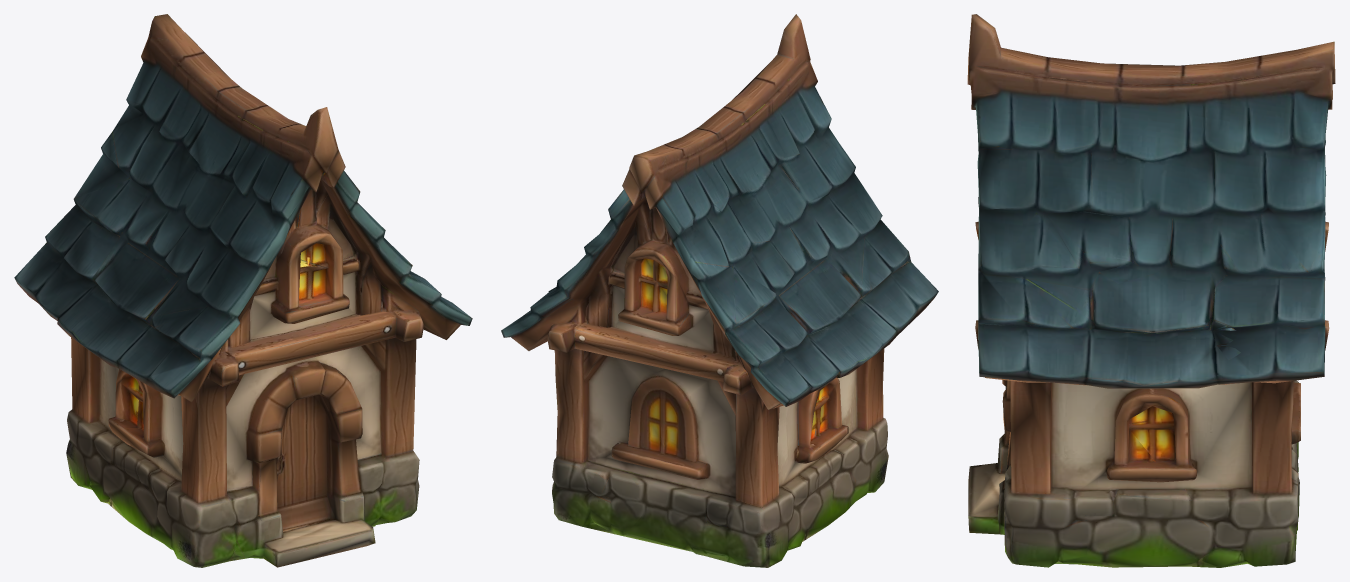
Rendered from house-t1.glb.
3 views of the same model, side by side, from view 1: azimuth 30°, elevation 25°; view 2: azimuth 150°, elevation 25°; view 3: azimuth 270°, elevation 25° (orthographic). The views are drawn at different scales.
Parts seen in each view (by area): view 1: Mesh1.0; view 2: Mesh1.0; view 3: Mesh1.0.
Part boxes in pixels (left/top/right/bottom): Mesh1.0: left=14, top=14, right=472, bottom=567; Mesh1.0: left=501, top=14, right=938, bottom=567; Mesh1.0: left=967, top=14, right=1335, bottom=567.
Size of the model in its own units: 1.41 by 1.9 by 1.29.
Materials: 1 (1 with a texture image).
